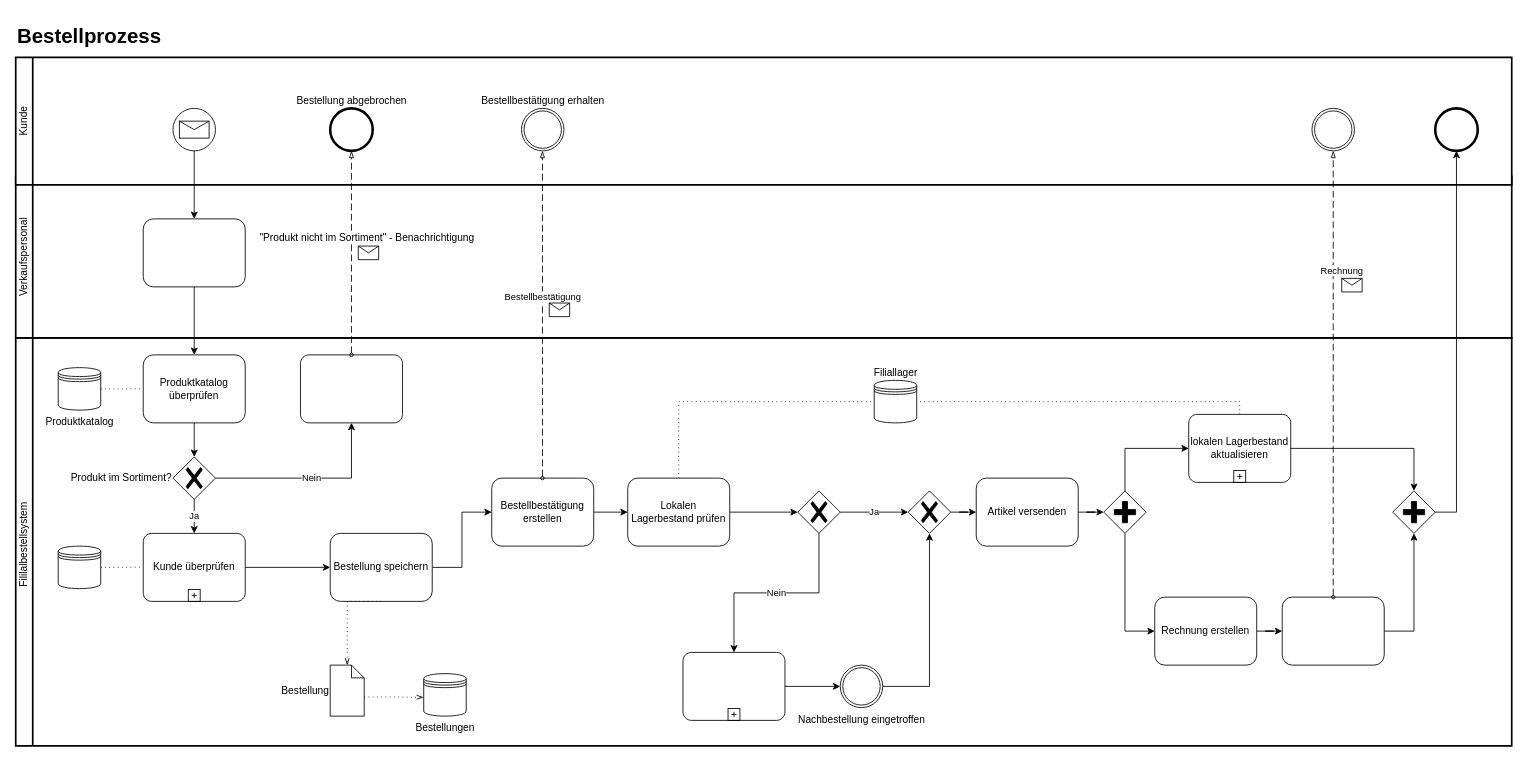
Some shapes in this 1527 by 761 pixel diagram are drawn without their labels. The shapes that lost their labels are listed below. From the top down, each one's centre as x and y in pixels, then its label:
the point at 193,129: Bestellungsanfrage
the point at 1332,129: Rechnung erhalten
the point at 1456,129: Bestellung erhalten
the point at 193,252: Bestellung erfassen
the point at 351,388: "Produkt nicht im Sortiment"-Benachrichtigung erstellen
the point at 818,511: Alle Artikel im Lager vorhanden?
the point at 79,567: Kundenverwaltung
the point at 1332,630: Rechnung versenden
the point at 733,686: Nachbestellung im Zentrallager tätigen
